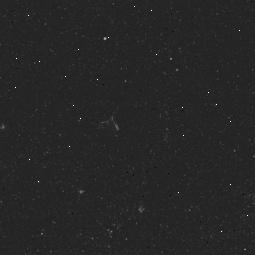debris: (94, 113, 122, 133)
